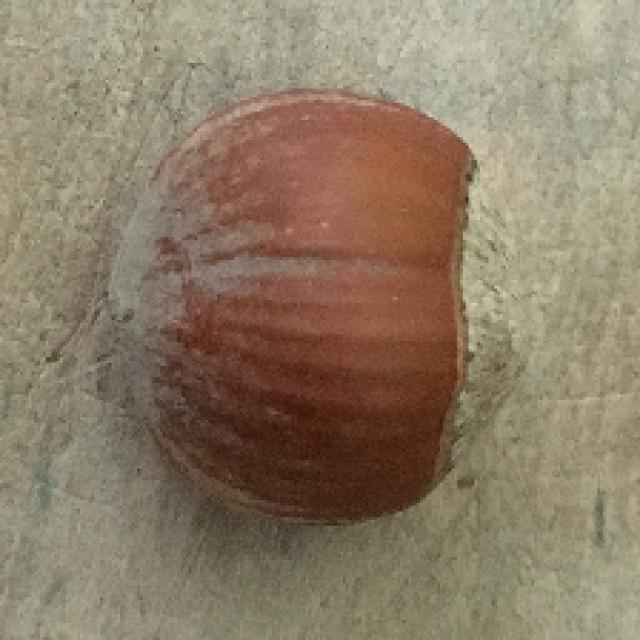qualityHazelnut: (99, 84, 531, 534)
